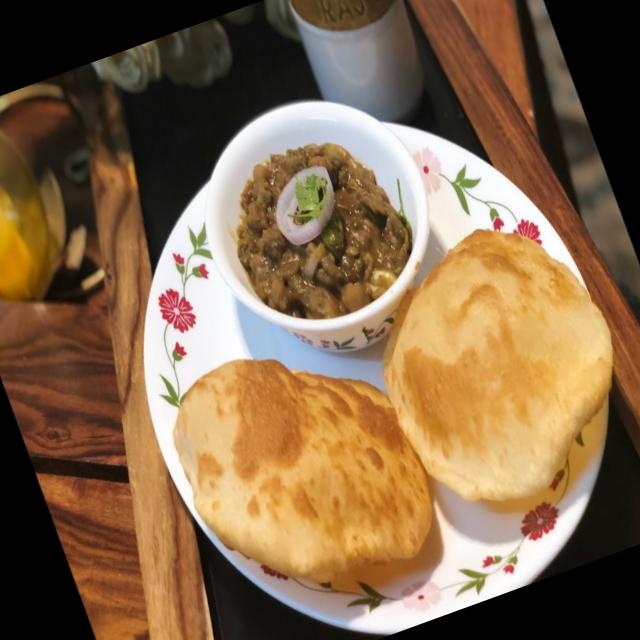Bhatura: (343, 196, 640, 526), (152, 309, 454, 628)
Chole: (211, 118, 427, 340)
